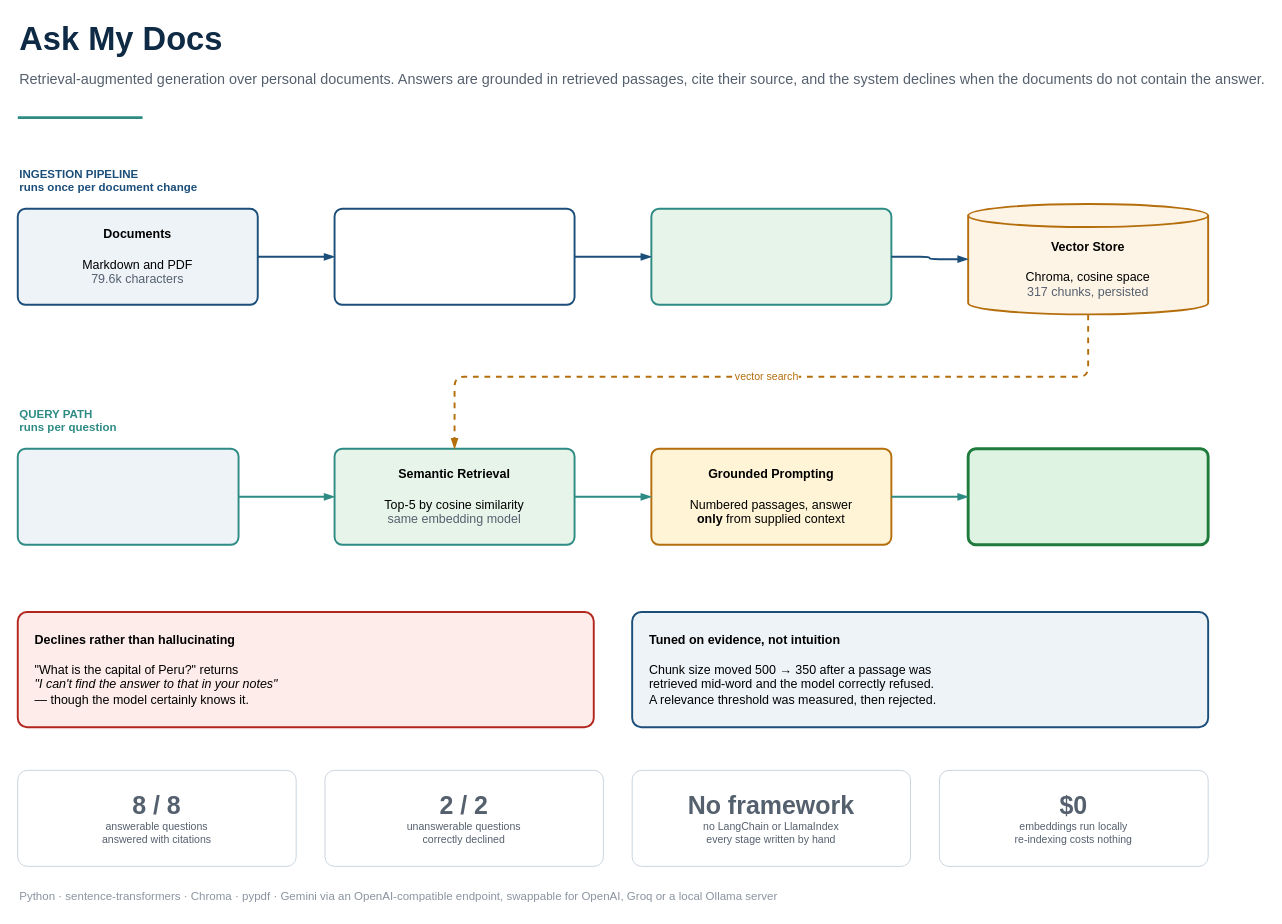
The diagram is 1282 pixels wide and 924 high, and some of its shapes have lost their labels. The box of each missing label's shape, as (x1, y1, x2, y2) in pixels:
Chunking Overlapping windows 350 chars / 70 overlap: (333, 207, 575, 305)
Cited Answer Source file, chunk id, similarity score: (966, 447, 1209, 546)
Embedding all-MiniLM-L6-v2, local 384 dimensions: (650, 207, 892, 305)
Question natural language: (16, 447, 239, 545)
